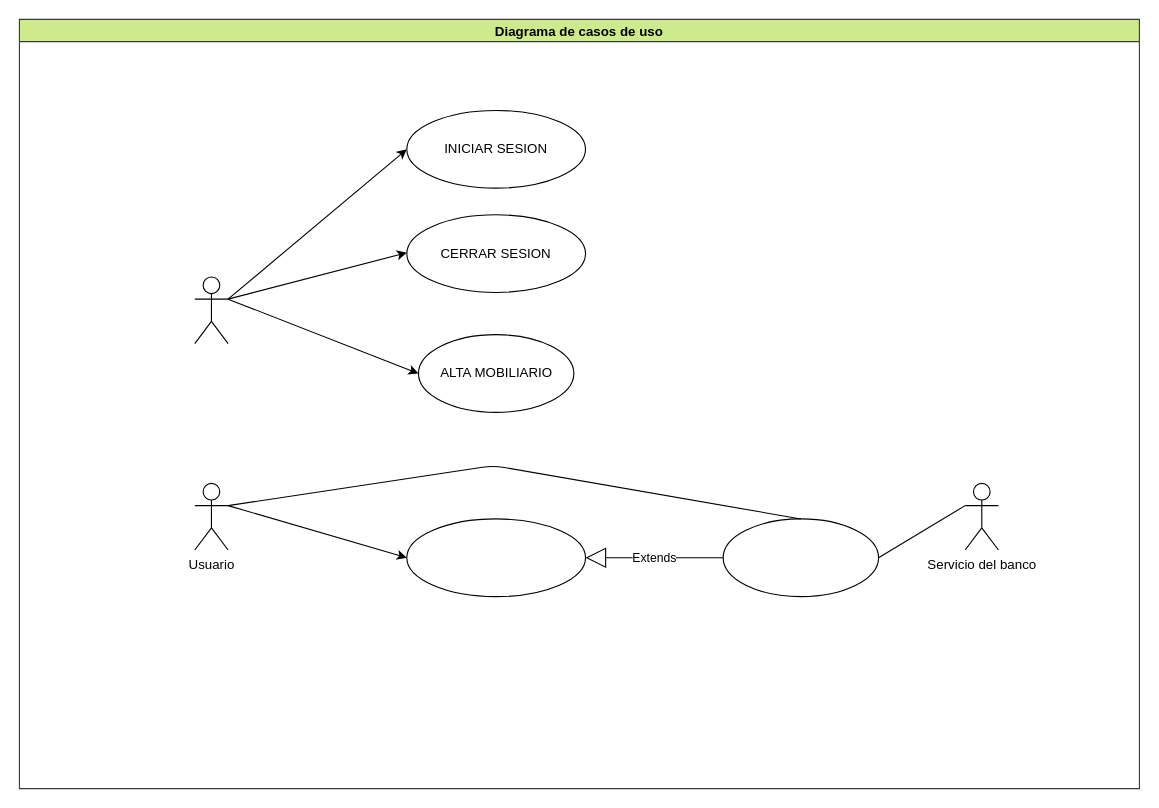
The diagram is 1159 pixels wide and 808 high, and some of its shapes have lost their labels. Here are the shapes that lost their labels. From the top down, the centre of each, then its label:
At [211,310]: "Encargado".
At [496,557]: "RESERVA DE ALQUILER".
At [800,557]: "PAGO".
